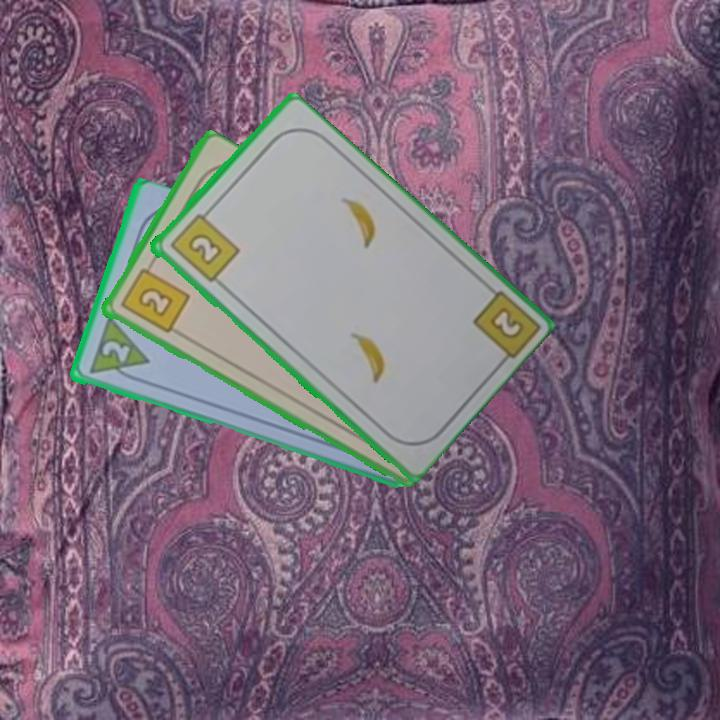2b: (166, 205, 242, 285), (116, 259, 192, 336), (485, 303, 526, 343)
2p: (84, 315, 151, 386)
